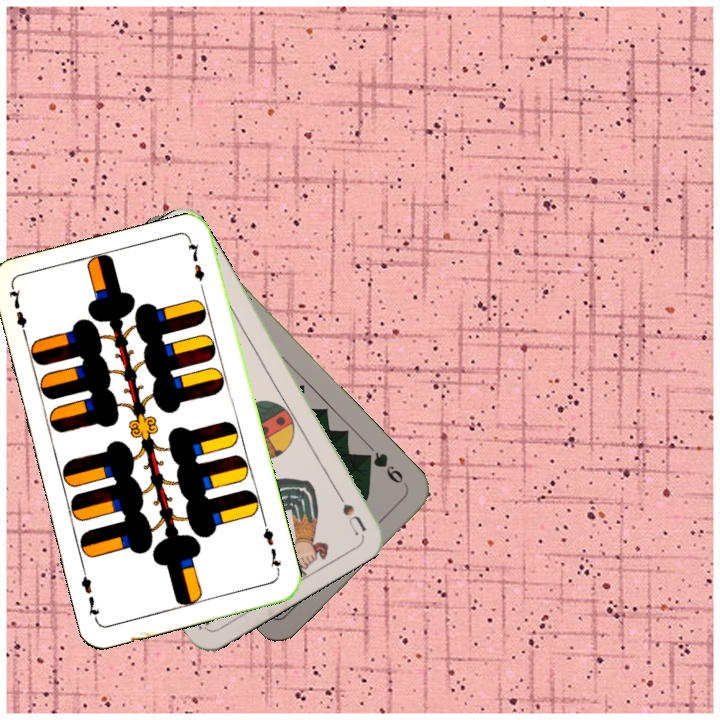E7: (5, 284, 30, 342), (259, 518, 283, 576)
G9: (359, 447, 411, 491)
SU: (328, 481, 368, 537)
